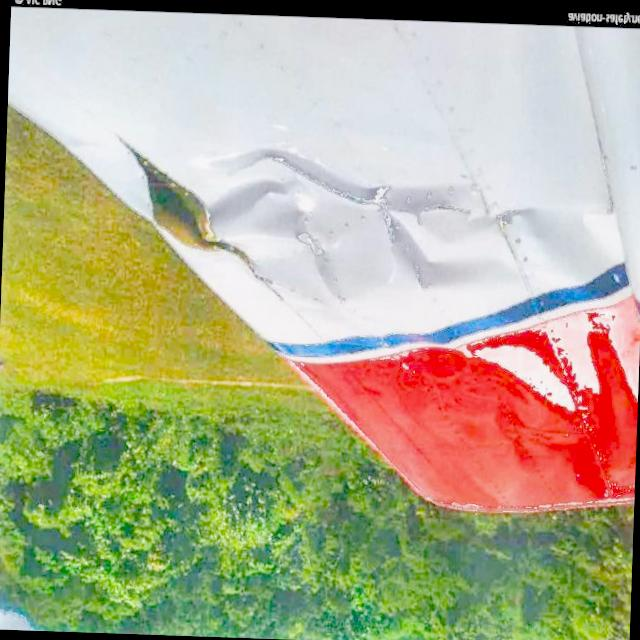crack: (269, 144, 383, 210), (404, 171, 476, 220), (412, 259, 431, 288)
